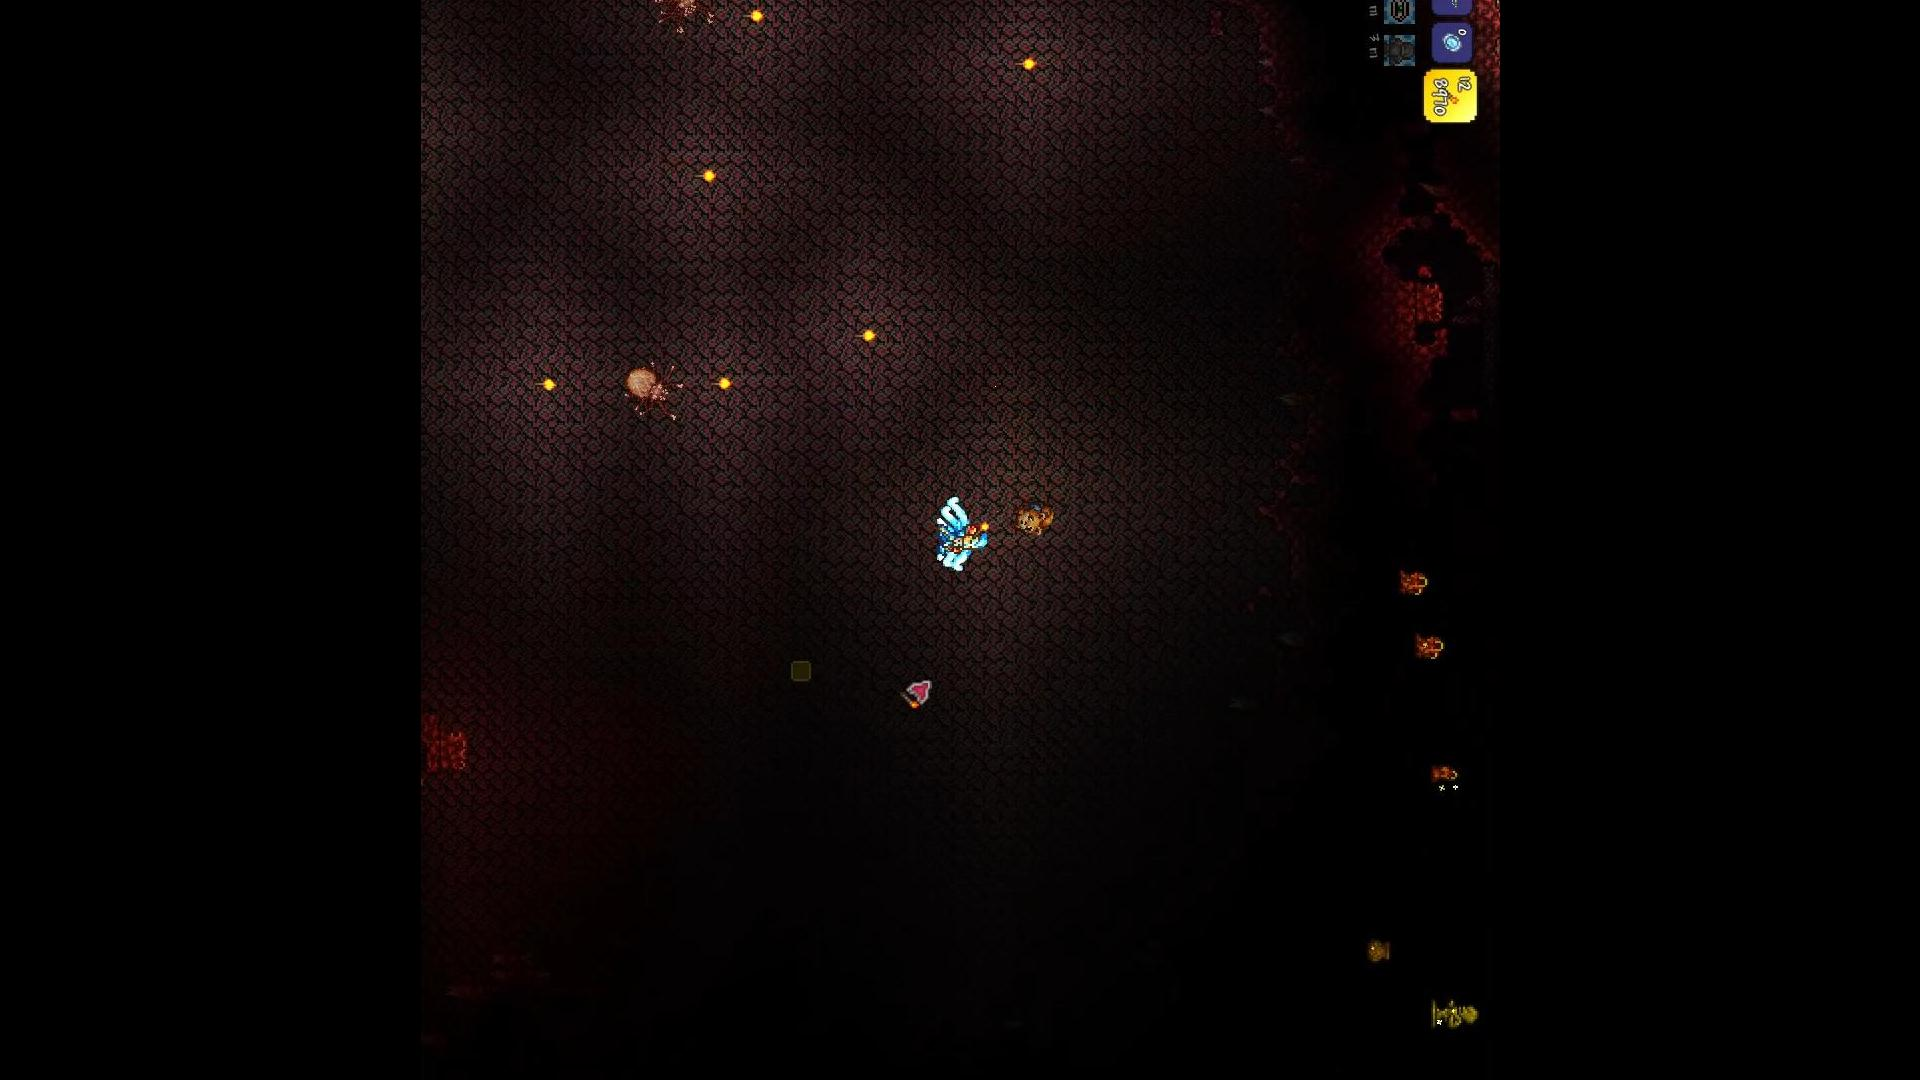spider: (615, 351, 690, 419), (650, 0, 731, 40)
